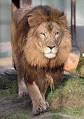lion: (16, 6, 75, 115)
